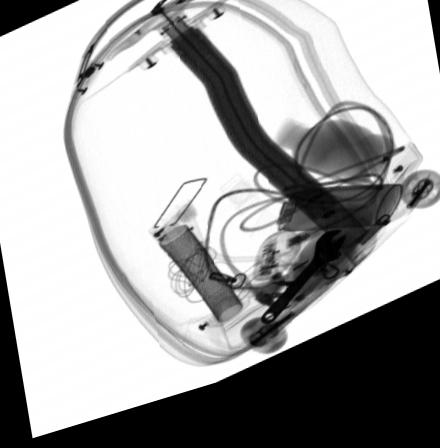Wrench: (259, 249, 347, 341)
